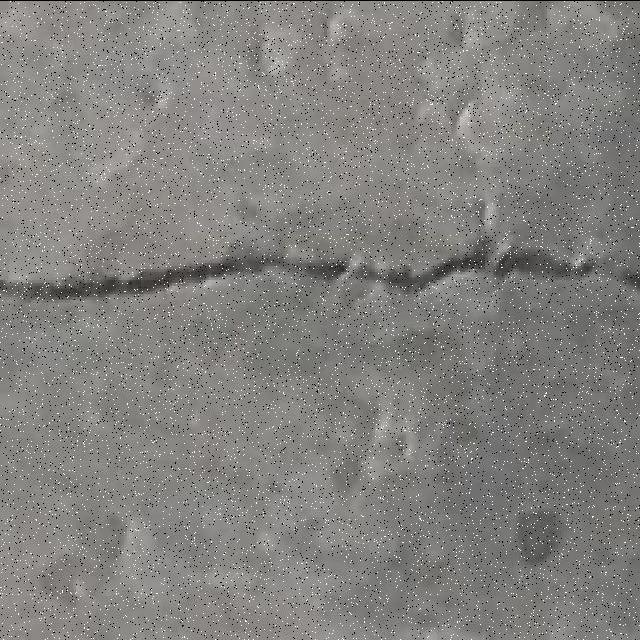crack: (0, 237, 630, 302)
